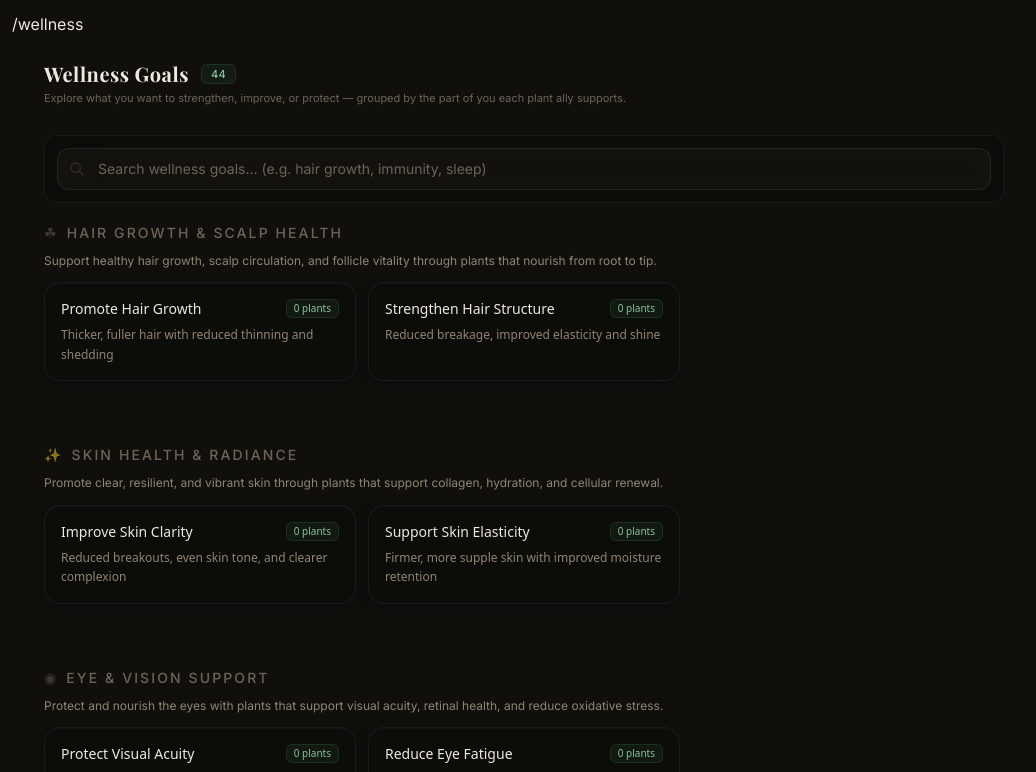
Test: WellnessNavigator — canonical catalog of wellness goals grouped by category › typing in the search syncs to the URL and narrows the visible tiles
Expected: the heading "Wellness Goals" is shown, [44,60,189,88]
Type "sleep" into the search field labelled "Search wellness goals… (e.g. hair growth, immunity, sleep)". click: (524, 168)
box: [57,148,991,190]
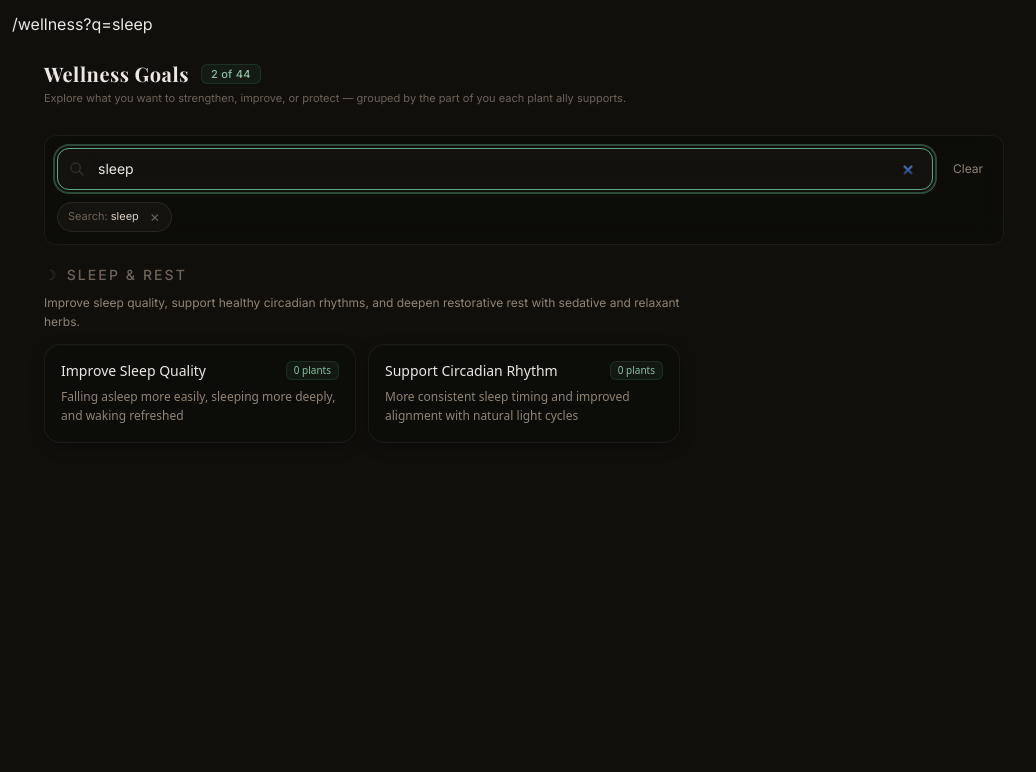
Expected: the text with test id "location-probe" shows "q=sleep", [12,14,153,34]
